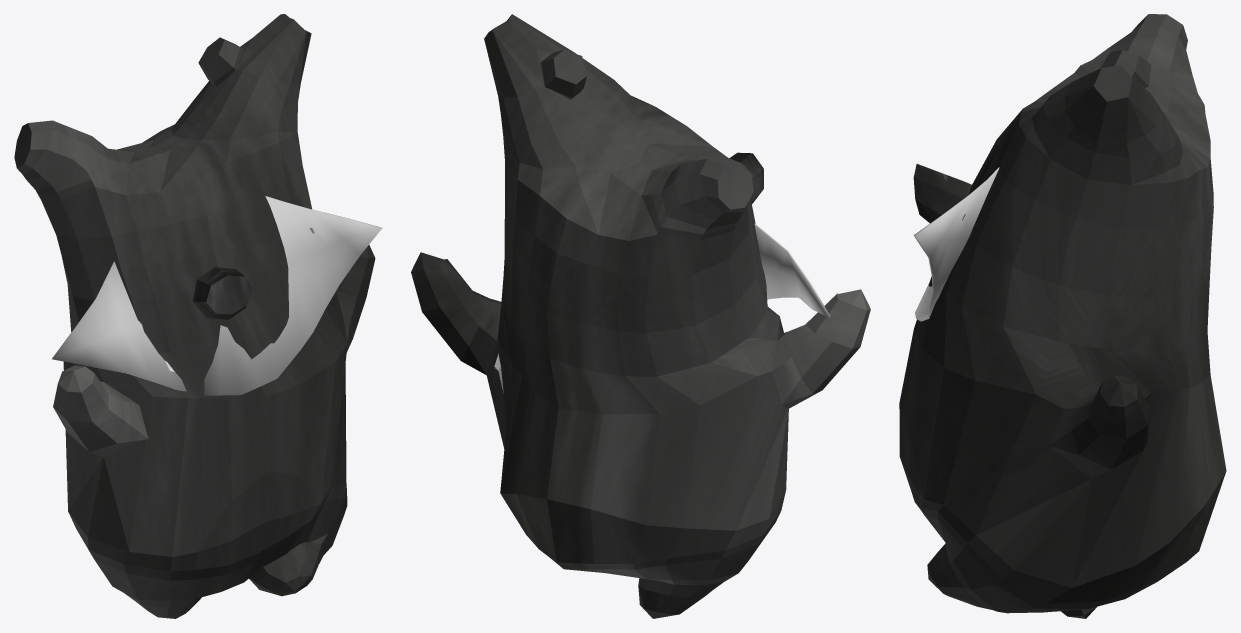
File: frame_0029.obj
The picture shows the model from 3 angles, left to right: view 1: azimuth 30°, elevation 25°; view 2: azimuth 150°, elevation 25°; view 3: azimuth 270°, elevation 25°; orthographic projection. The views are drawn at different scales.
Visible parts, largest first — view 1: korok, leaf, nose; view 2: korok, leaf, nose; view 3: korok, leaf, nose.
Part boxes in pixels (x1,y1,x2,y2): korok: (14, 14, 375, 618); leaf: (52, 196, 382, 395); nose: (193, 267, 252, 319); korok: (411, 14, 870, 618); leaf: (754, 223, 830, 317); nose: (729, 152, 763, 203); korok: (899, 14, 1226, 618); leaf: (914, 167, 999, 321); nose: (913, 164, 971, 223).
Bounding box in the file's own units: 1.65 × 2.34 × 1.12.
